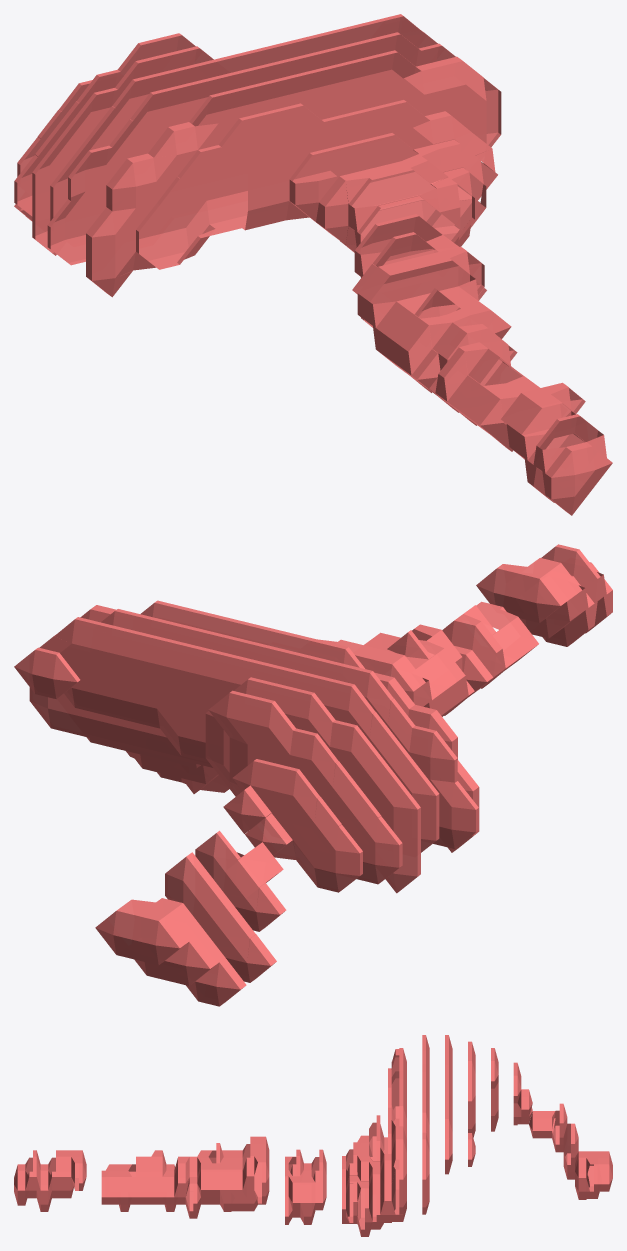
Rendered from SVV_BWM-DL05.gltf.
3 renders of one model, top to bottom at view 1: azimuth 30°, elevation 25°; view 2: azimuth 150°, elevation 25°; view 3: azimuth 270°, elevation 25°, orthographic. The views are drawn at different scales.
Visible parts, largest first — view 1: BWM-DL05; view 2: BWM-DL05; view 3: BWM-DL05.
Boxes of the visible parts, box(x1,y1,x2,y2) form: BWM-DL05: box(14, 14, 612, 515); BWM-DL05: box(14, 544, 612, 1006); BWM-DL05: box(14, 1035, 612, 1236).
Bounding box in the file's own units: 10755 × 5628 × 20106.
